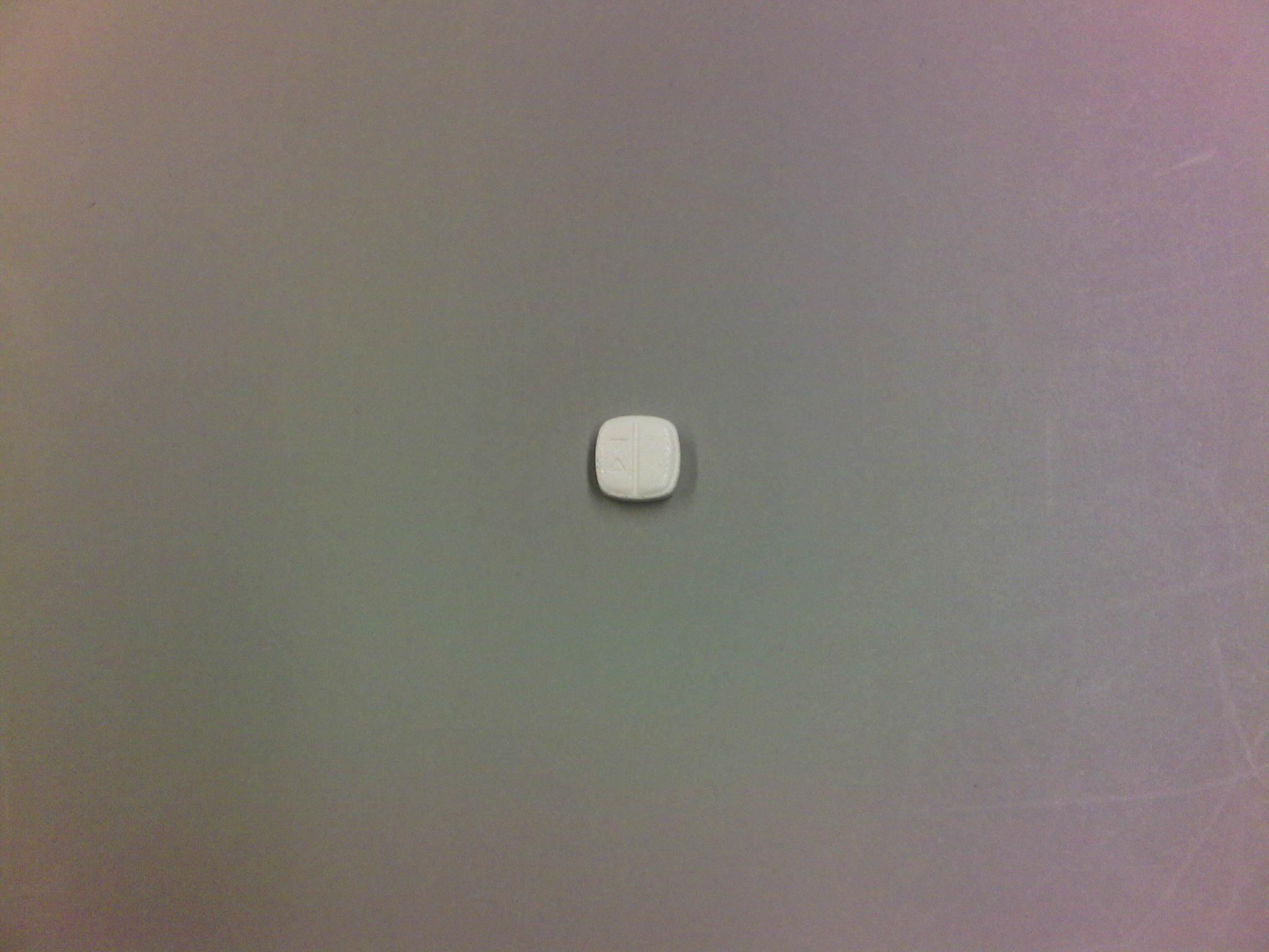Pill: (586, 408, 688, 507)
